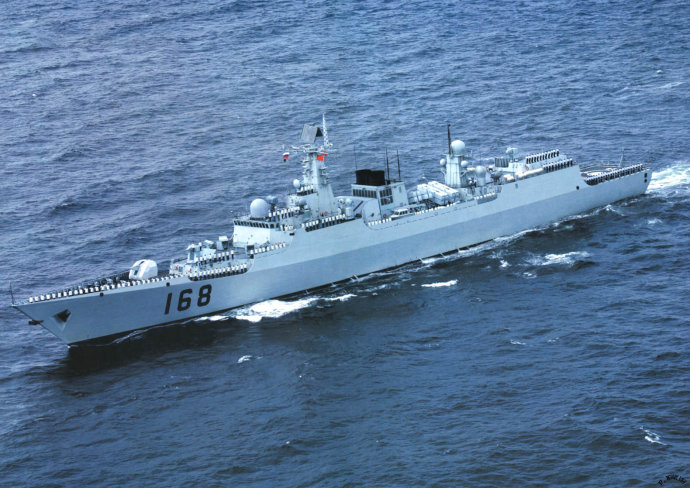warship: (1, 89, 652, 345)
